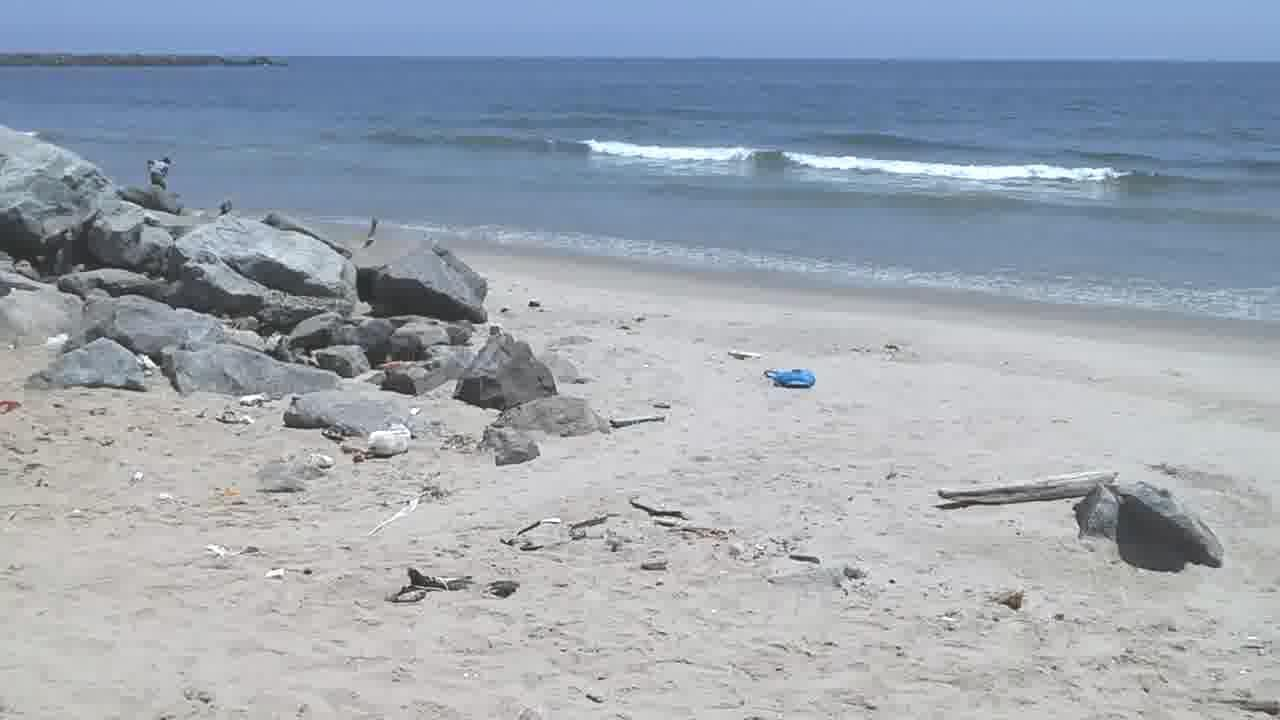large collection of objects: (150, 154, 178, 187)
obj: (1076, 480, 1224, 572), (497, 499, 696, 560), (931, 476, 1122, 512), (385, 566, 480, 611), (612, 399, 674, 431), (756, 365, 822, 392), (364, 425, 414, 458), (729, 351, 762, 359)
sand/background: (0, 0, 1279, 472)
